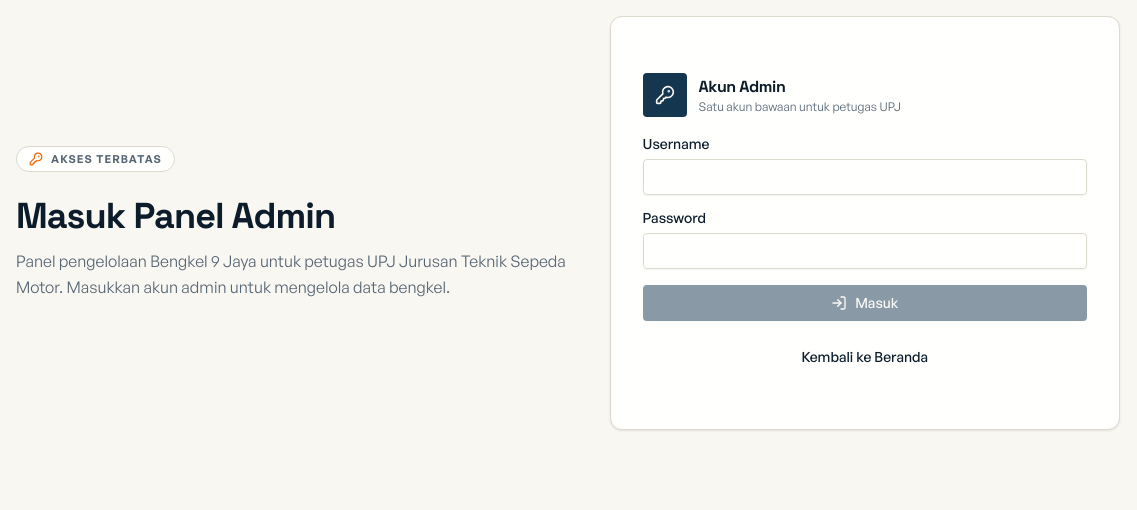
AdminLogin form › shows an error message when the credentials are rejected
This screenshot has width=1137, height=510.
Type "admin" into the field with test id "admin.login.username_input".
click(865, 177); type("admin")  # box [642,159,1087,195]
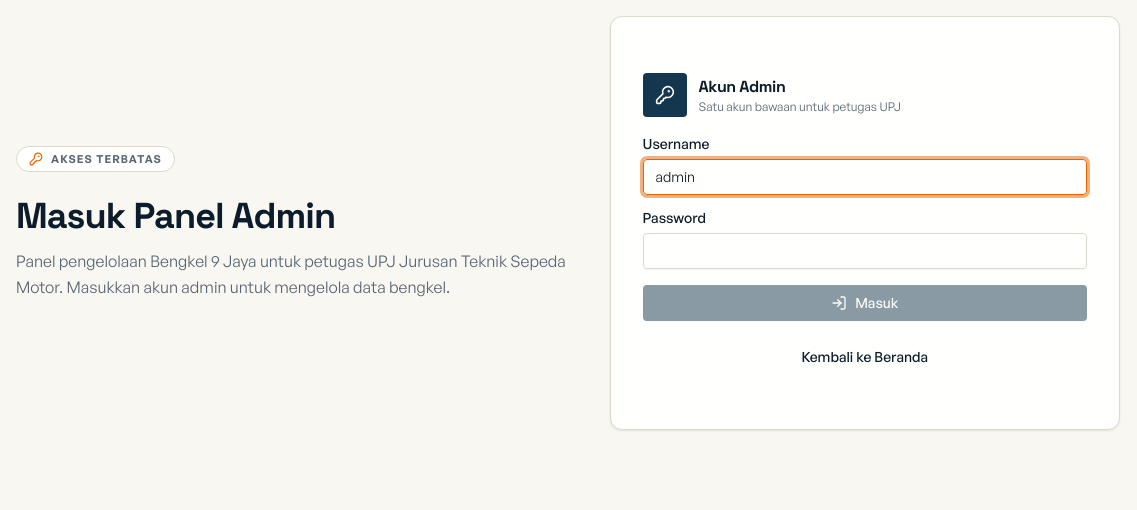
Type "salah" into the password field with test id "admin.login.password_input".
click(865, 251); type("salah")  # box [642,233,1087,269]
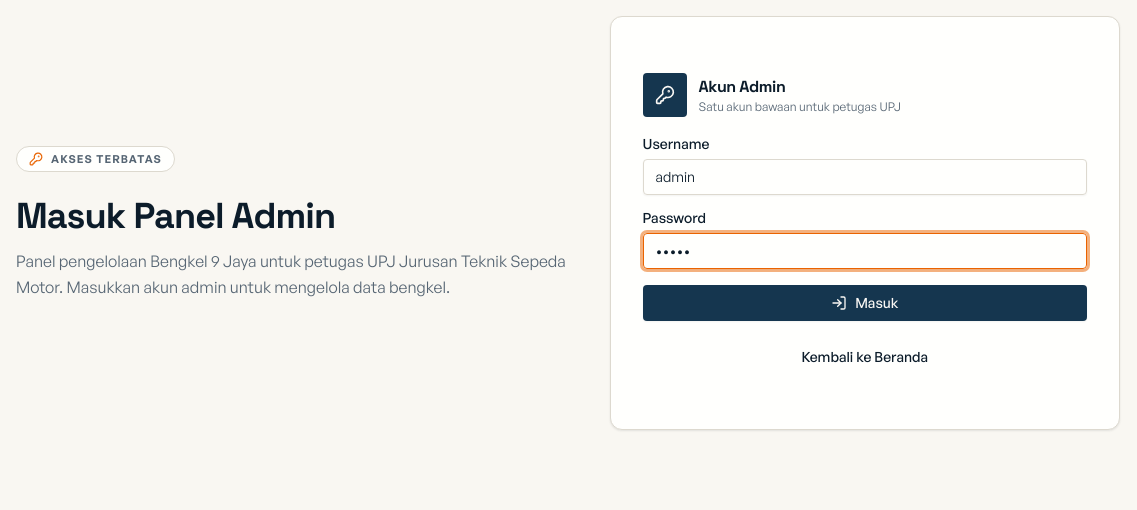
Click the button with test id "admin.login.submit_button".
click(865, 303)  # box [642,285,1087,321]
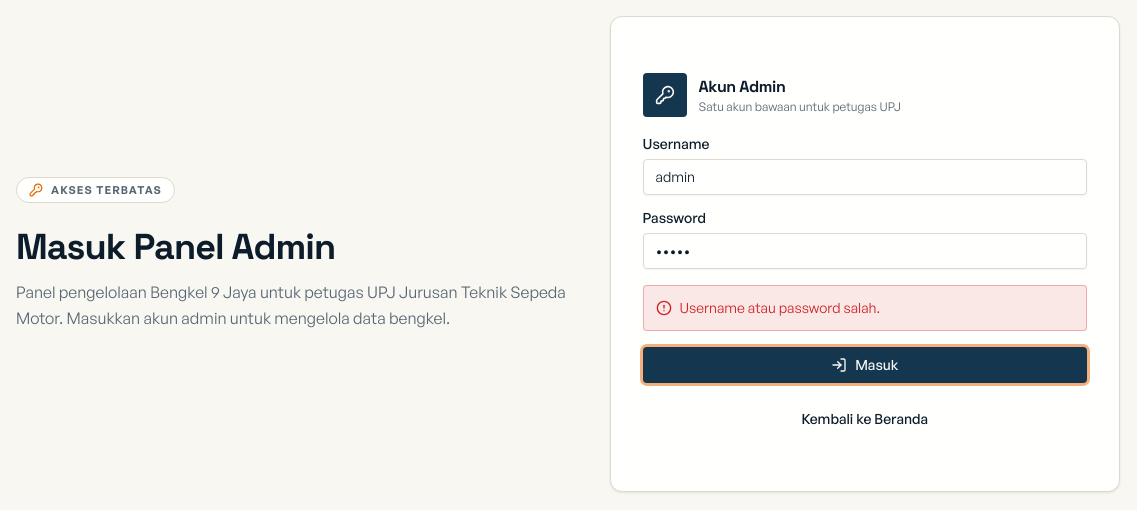
Expected: the element with test id "admin.login.error_state" reads "Username atau password salah.", [680,299,880,316]
